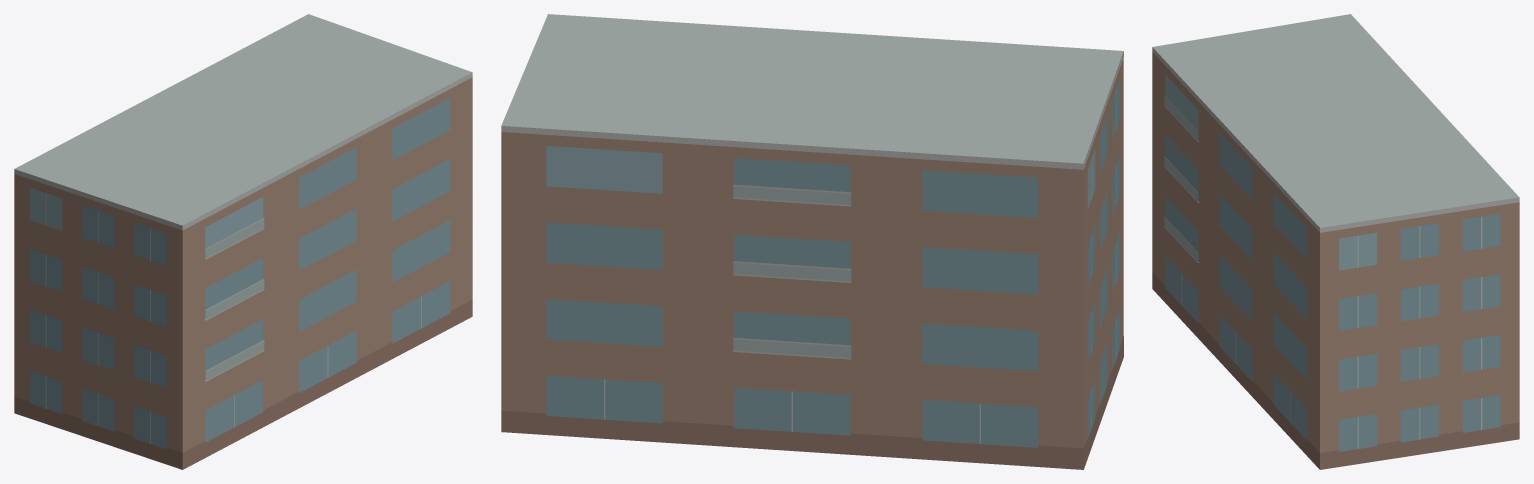
Rendered from survey-upis-32853640.glb.
3 renders of one model, left to right at view 1: azimuth 30°, elevation 25°; view 2: azimuth 150°, elevation 25°; view 3: azimuth 270°, elevation 25°, orthographic. The views are drawn at different scales.
Parts seen in each view (by area): view 1: survey-upis-32853640.tmp; view 2: survey-upis-32853640.tmp; view 3: survey-upis-32853640.tmp.
Part boxes in pixels (x1,y1,x2,y2): survey-upis-32853640.tmp: (14,14,472,469); survey-upis-32853640.tmp: (501,14,1123,469); survey-upis-32853640.tmp: (1152,14,1519,469).
Bounding box in the file's own units: 23.35 × 12.3 × 16.94.
